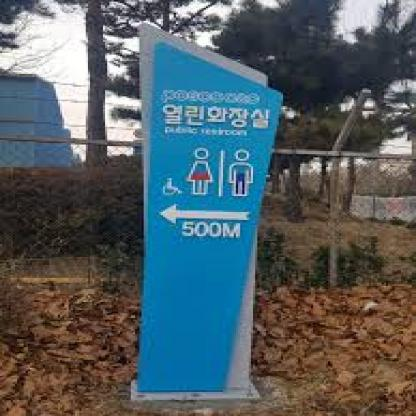toilet: (188, 142, 258, 199)
